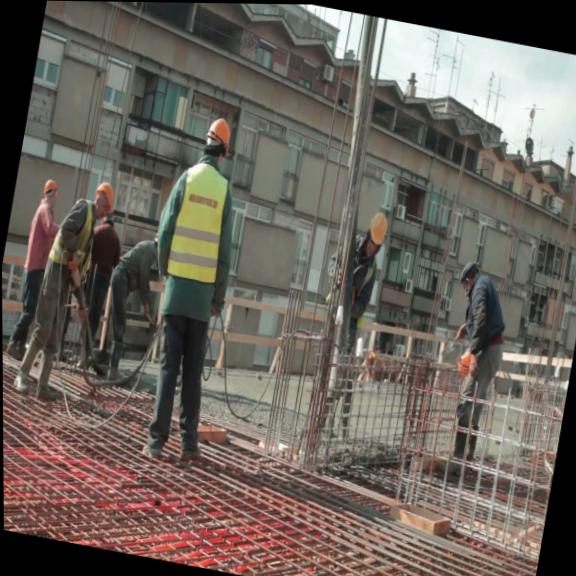safety_vest: (167, 165, 233, 283)
